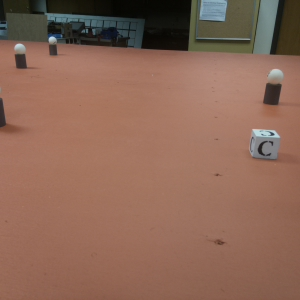obstacle: (264, 69, 284, 106), (15, 44, 28, 70), (47, 36, 59, 56)
